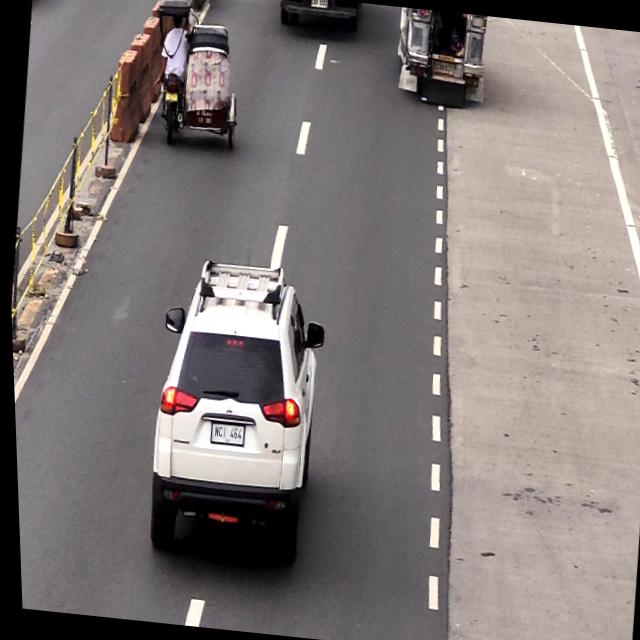Car: (137, 252, 329, 565)
Jeep: (392, 7, 489, 100)
License-Plate: (205, 421, 244, 452), (432, 59, 456, 77)
Tricycle: (140, 0, 250, 150)
